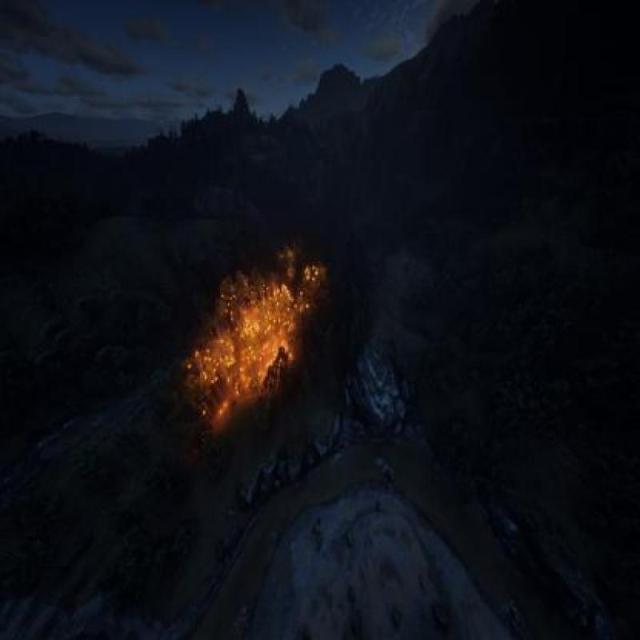Fire: (183, 232, 334, 440)
